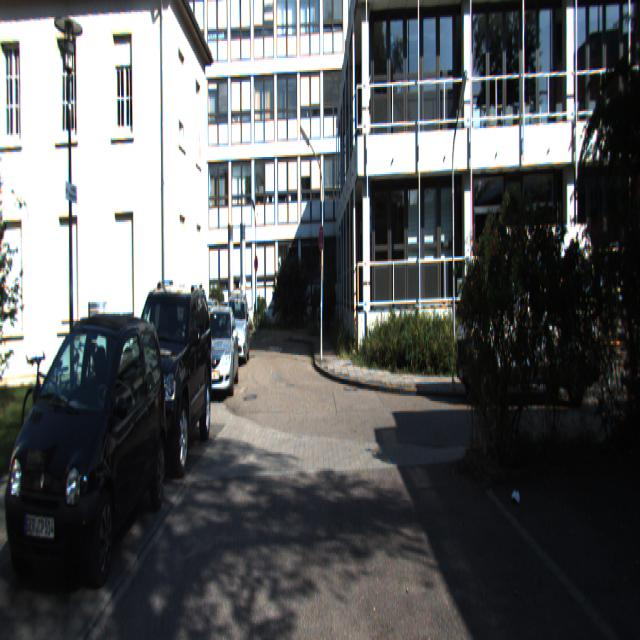Car: (0, 312, 169, 598), (453, 217, 599, 404), (114, 270, 214, 484), (197, 304, 242, 398), (222, 290, 253, 364)
